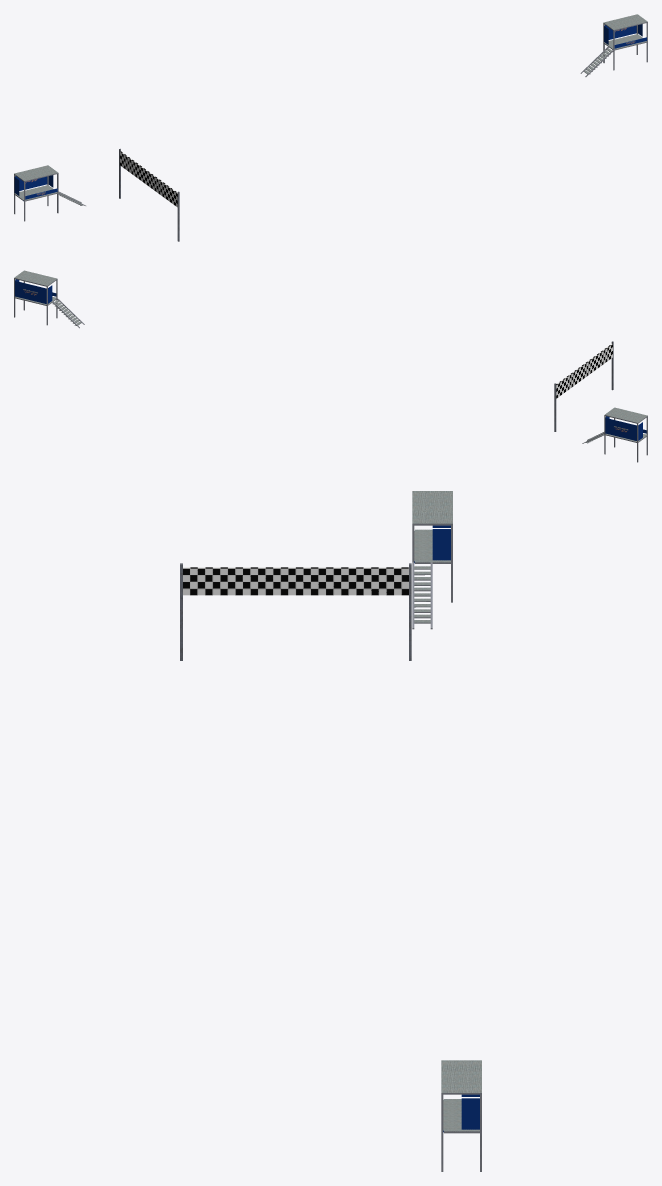
File: PodiumAndStart.glb
The picture shows the model from 3 angles, top to bottom: view 1: azimuth 30°, elevation 25°; view 2: azimuth 150°, elevation 25°; view 3: azimuth 270°, elevation 25°; orthographic projection. The views are drawn at different scales.
Visible parts, largest first — view 1: Asset 01.005, Asset 01.006, Asset 15.003; view 2: Asset 01.005, Asset 01.006, Asset 15.003; view 3: Asset 15.003, Asset 01.006, Asset 01.005.
Boxes of the visible parts, box(x1,y1,x2,y2) form: Asset 01.005: box(580, 14, 647, 76); Asset 01.006: box(14, 165, 85, 221); Asset 15.003: box(119, 148, 179, 241); Asset 01.005: box(14, 270, 84, 328); Asset 01.006: box(582, 407, 647, 462); Asset 15.003: box(554, 341, 613, 431); Asset 15.003: box(180, 563, 411, 660); Asset 01.006: box(412, 491, 452, 629); Asset 01.005: box(441, 1060, 481, 1171).
Bounding box in the file's own units: 98.33 × 7.39 × 20.84.
2 materials, 2 textured.
